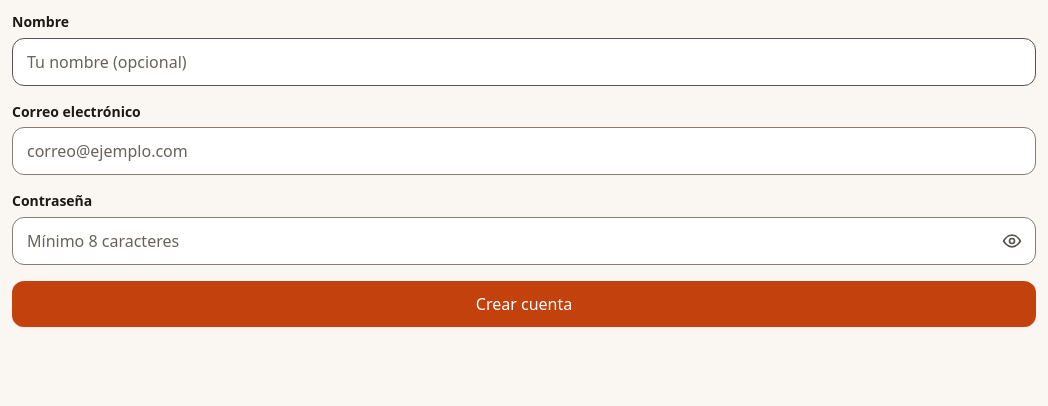
Test: register-form › asocia errores de registro con los campos de email y contraseña
This screenshot has width=1048, height=406.
In the field labelled "Correo electrónico": (524,151) top-left (12, 127), bottom-right (1036, 175), type "nami@example.com"
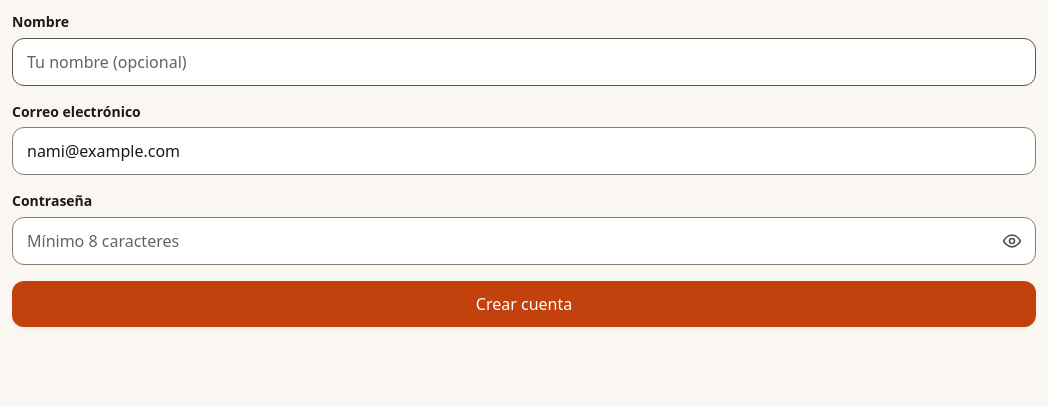
In the password field named "password": (524,241) top-left (12, 217), bottom-right (1036, 265), type "password-123"
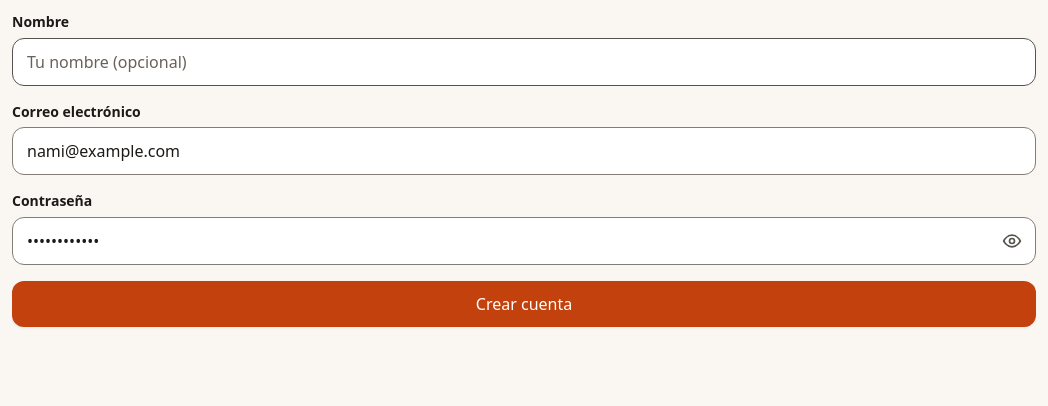
Submit the form "Crear cuenta"
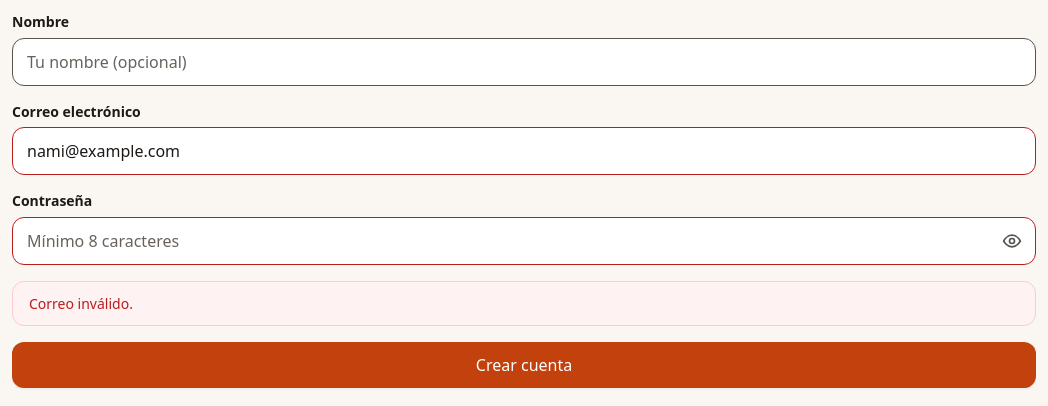
expect the password field named "password" is marked as invalid: met, box top-left (12, 217), bottom-right (1036, 265)
expect the password field named "password" has attribute aria-describedby="register-form-error": met, box top-left (12, 217), bottom-right (1036, 265)
